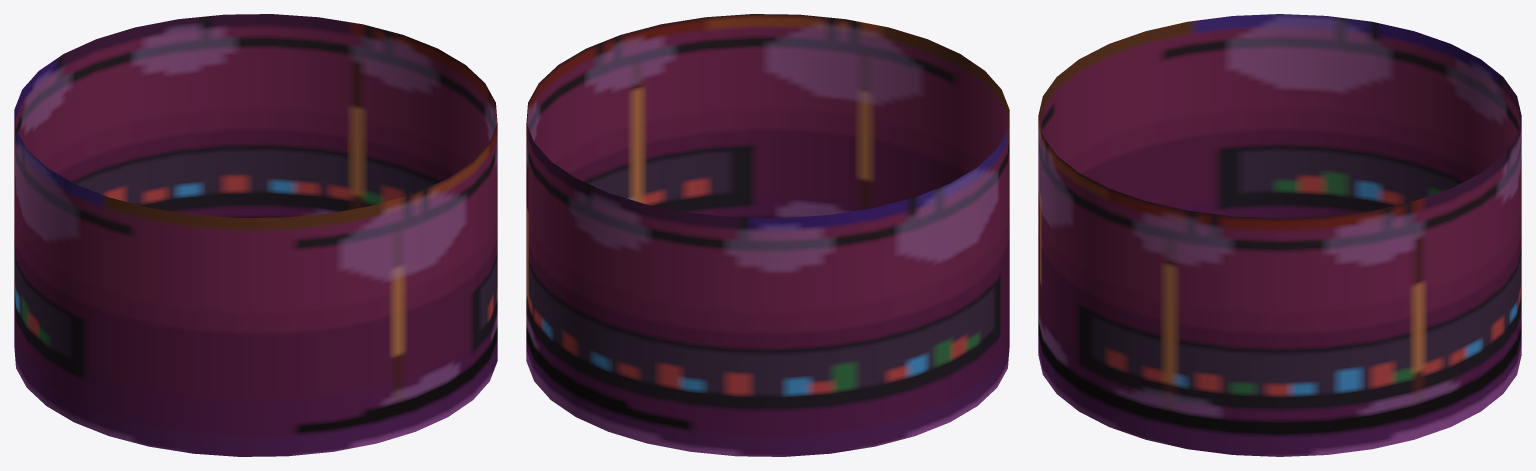
File: bar.fbx
3 views of the same model, side by side, from view 1: azimuth 30°, elevation 25°; view 2: azimuth 150°, elevation 25°; view 3: azimuth 270°, elevation 25° (orthographic).
Parts seen in each view (by area): view 1: Cylinder; view 2: Cylinder; view 3: Cylinder.
Boxes of the visible parts, <box> form: Cylinder: <box>14,14,497,456</box>; Cylinder: <box>526,14,1009,456</box>; Cylinder: <box>1038,14,1521,456</box>.
Size of the model in its own units: 5774 by 3144 by 5774.
Materials: 2 (2 with a texture image).
